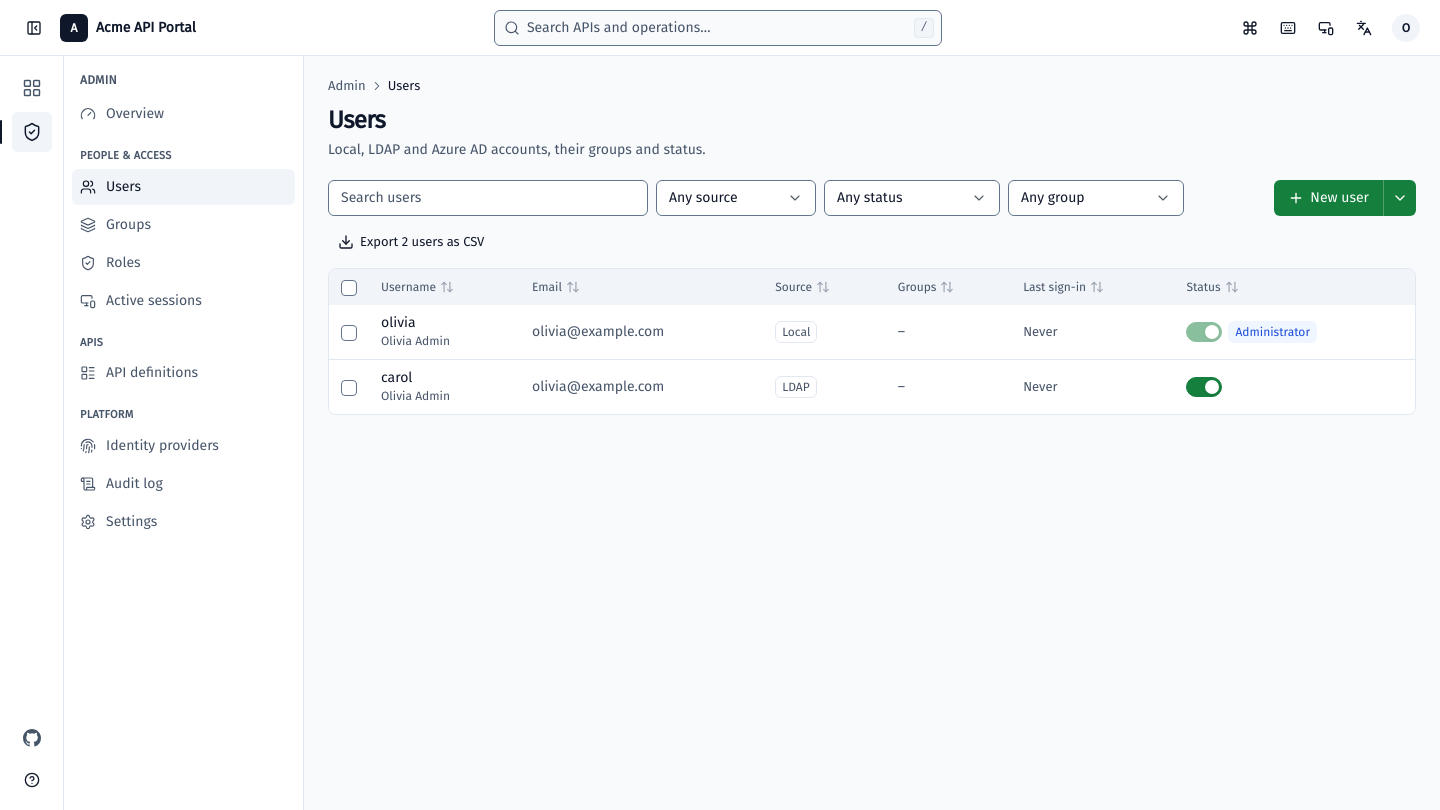
New user › says when the Azure AD account sits beside an LDAP account of the same person
The image size is (1440, 810).
Click the button named "More ways to add users".
click(1400, 198)  # box [1383,180,1416,216]
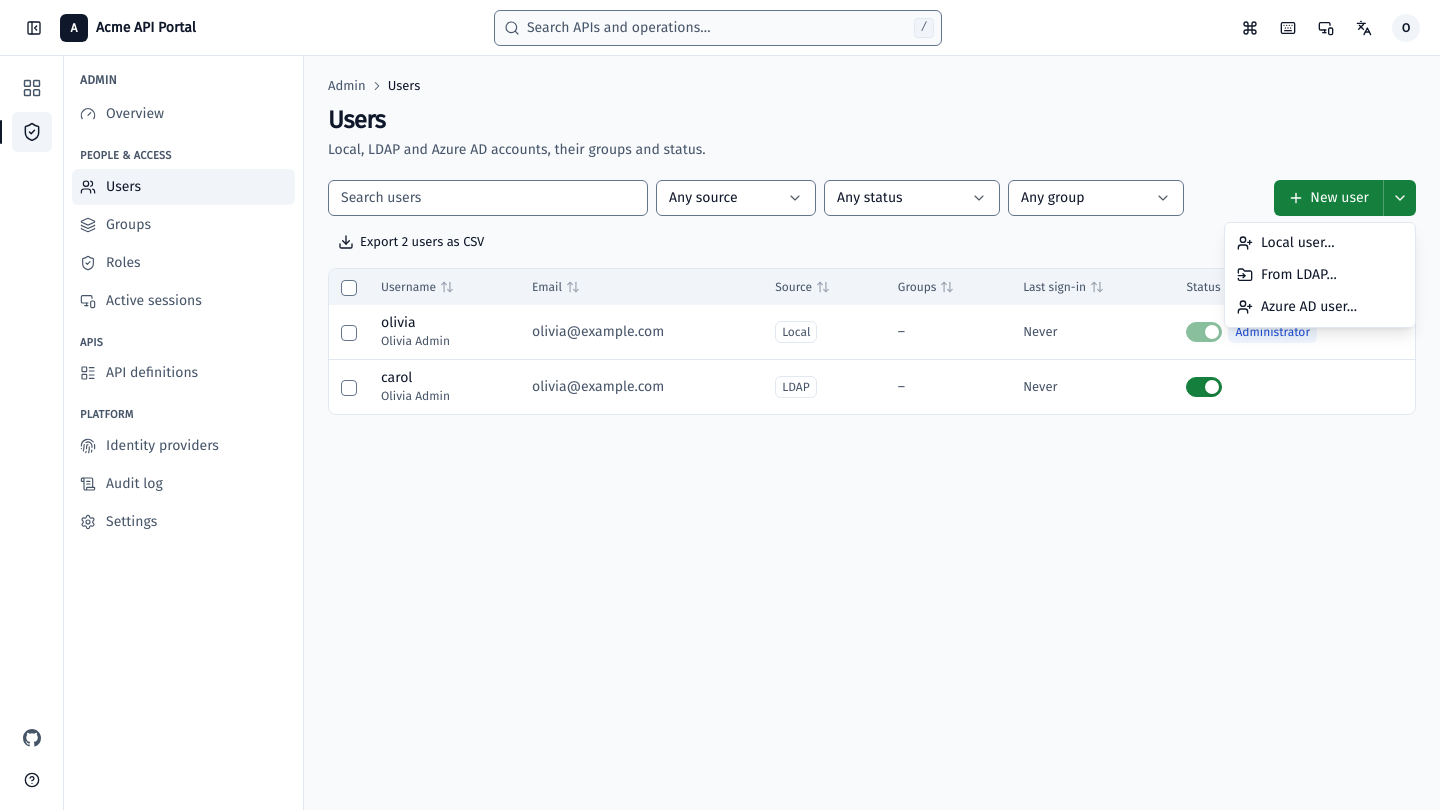
Click the menu item "Azure AD user…".
click(1297, 306)  # box [1237,298,1357,315]
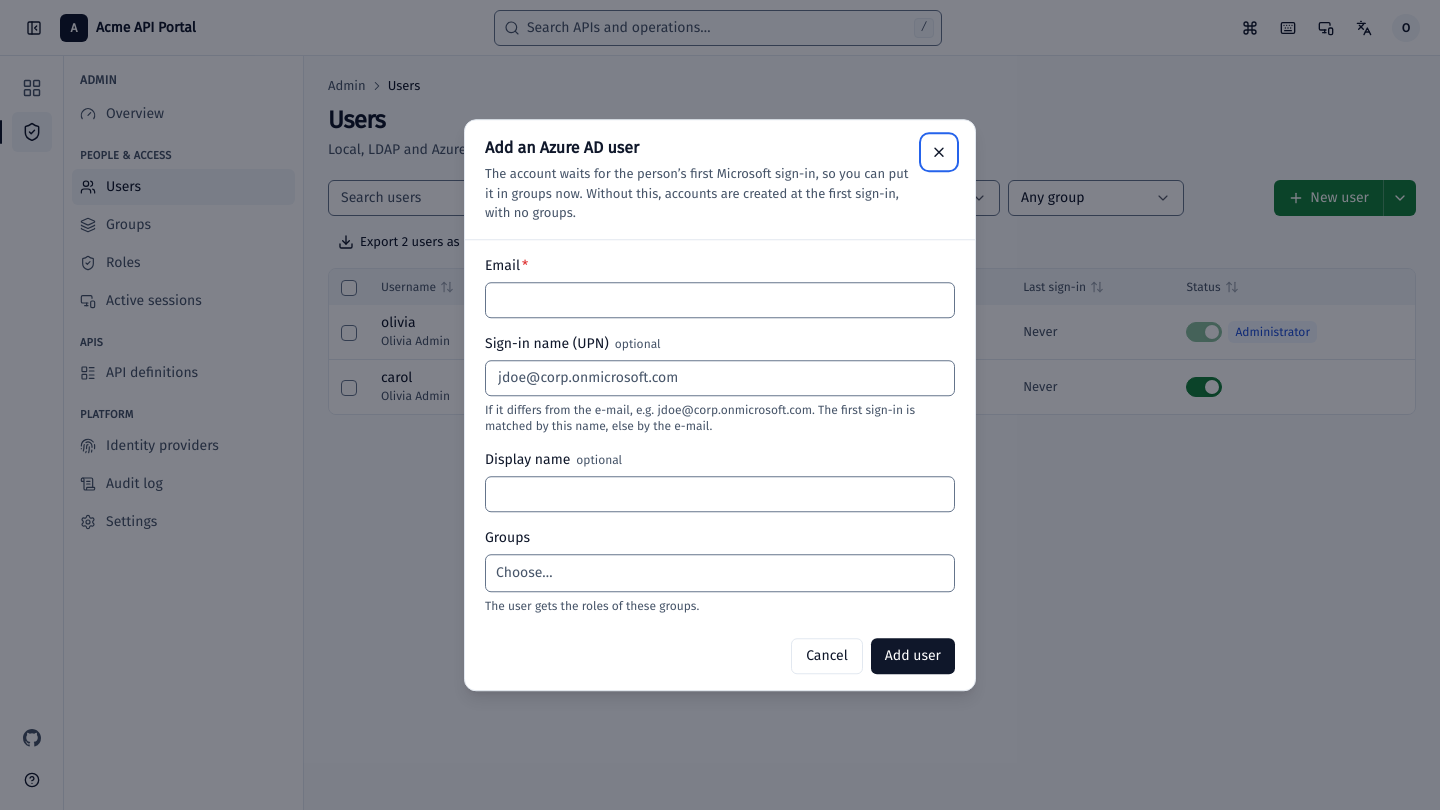
Type "carol@corp.com" into the field labelled "Email*".
click(720, 300); type("carol@corp.com")  # box [485,282,955,318]
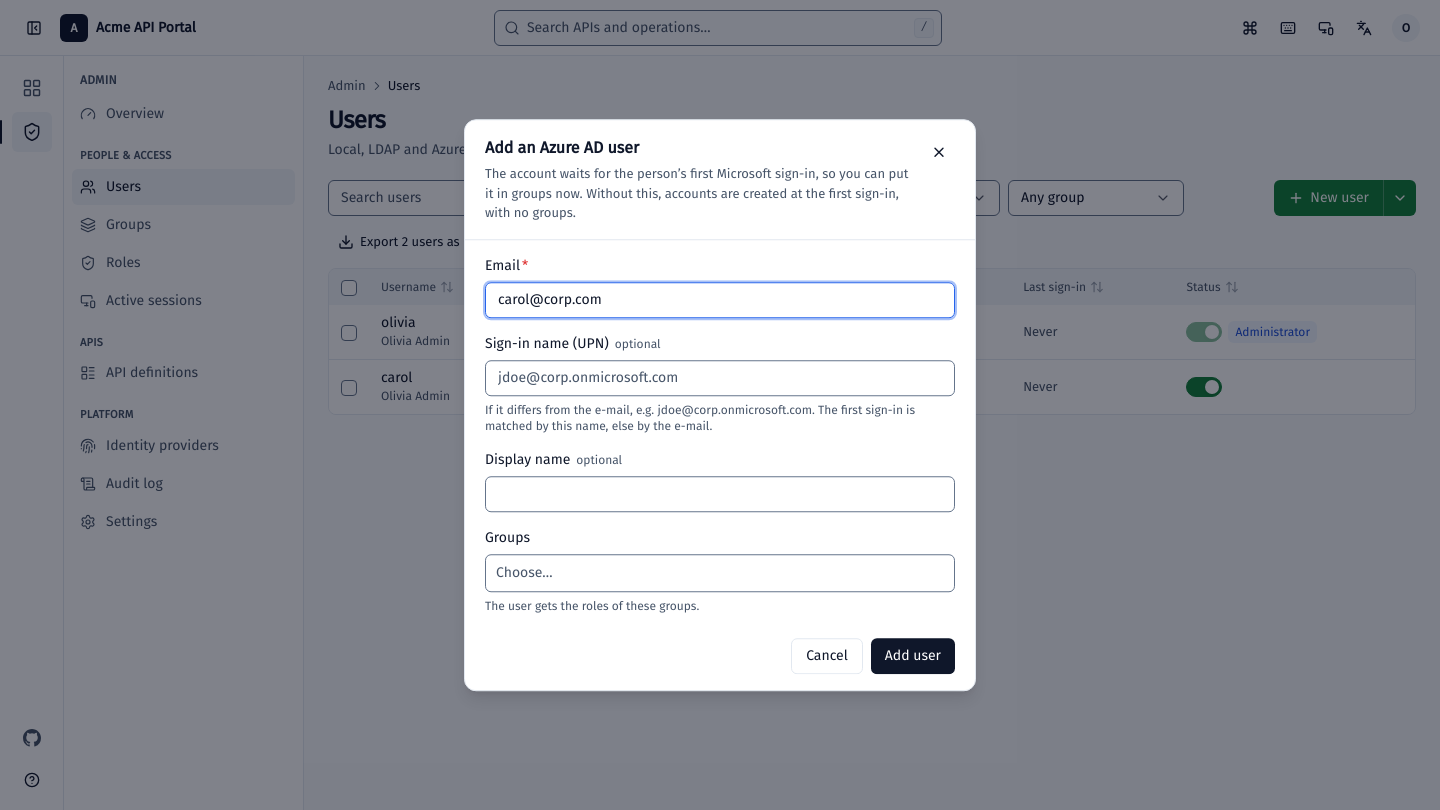
Click the button "Add user".
click(913, 656)  # box [871,638,955,674]
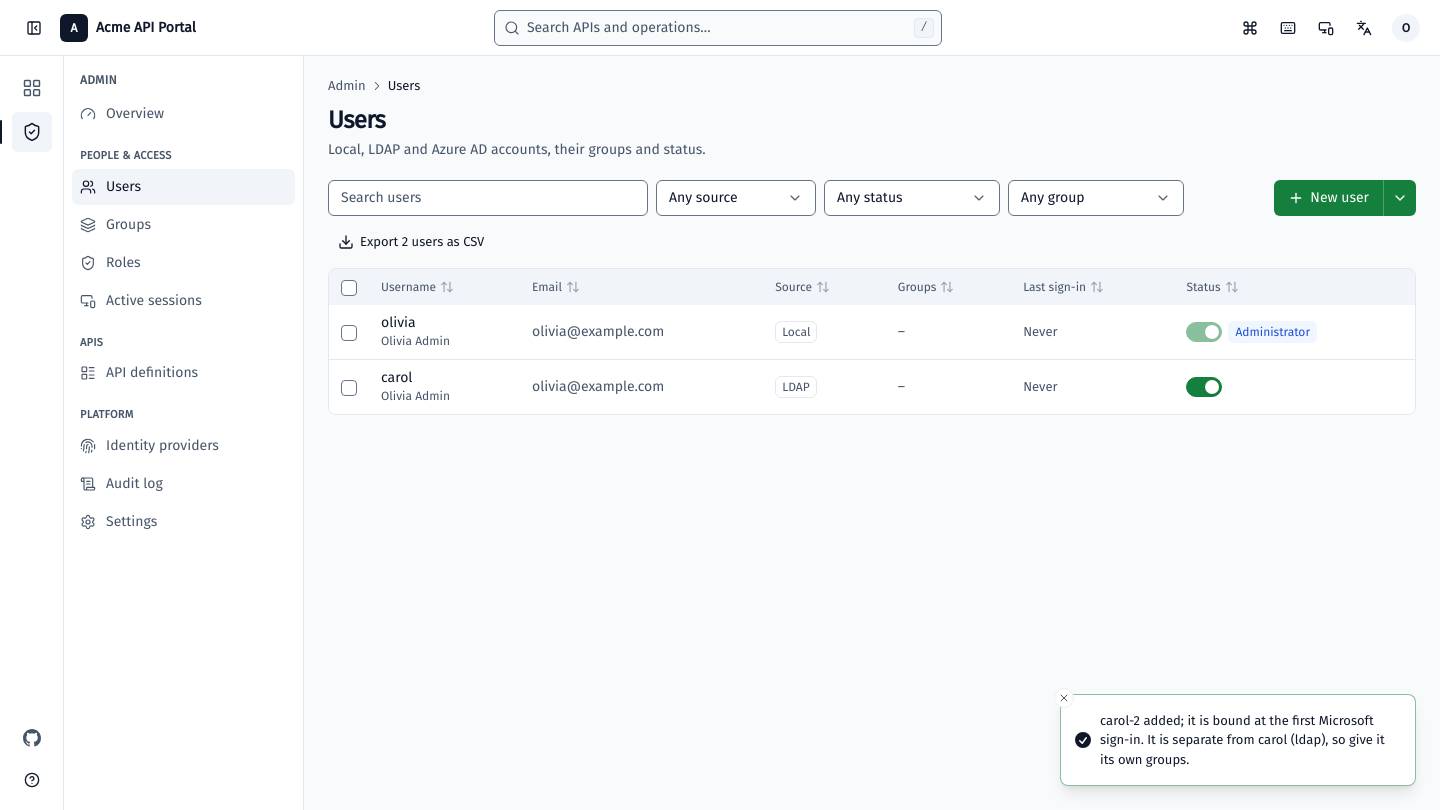
Check: the text "carol-2 added; it is bound at the first Microsoft sign-in. It is separate from carol (ldap), so give it its own groups." is shown, box [1100,712,1385,766]
